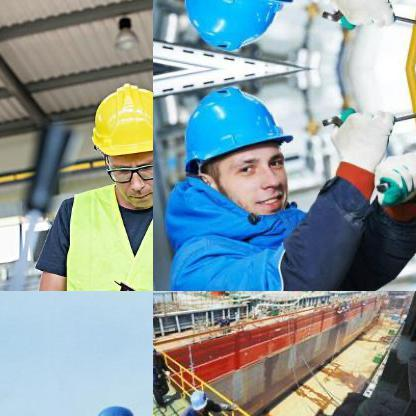Helmet: (170, 76, 304, 218), (76, 66, 152, 211), (170, 0, 305, 60), (89, 394, 146, 415), (186, 388, 208, 410), (153, 343, 156, 358)
